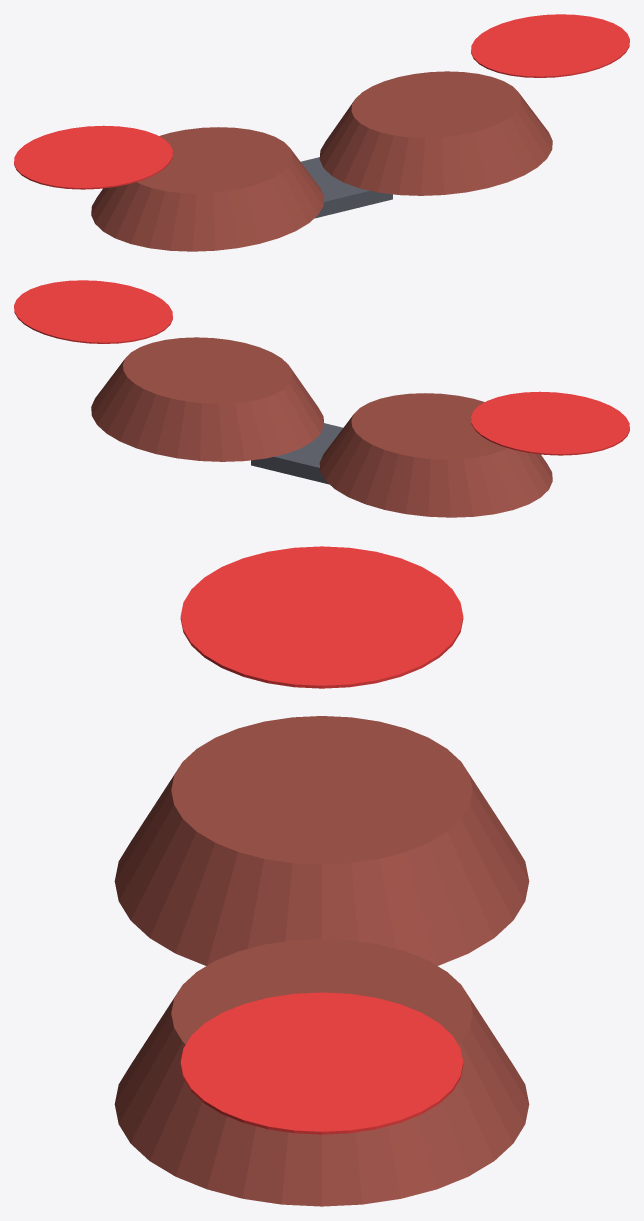
File: SU_PowerPlant.fbx
The picture shows the model from 3 angles, top to bottom: view 1: azimuth 30°, elevation 25°; view 2: azimuth 150°, elevation 25°; view 3: azimuth 270°, elevation 25°; orthographic projection. The views are drawn at different scales.
Visible parts, largest first — view 1: Cone.001, Cone, Cylinder.001, Cylinder, Cube; view 2: Cone.001, Cone, Cylinder.001, Cylinder, Cube; view 3: Cone, Cone.001, Cylinder, Cylinder.001.
Boxes of the visible parts, x1,y1,x2,y2 form: Cone.001: (319, 71, 552, 195); Cone: (91, 127, 324, 251); Cylinder.001: (471, 14, 629, 77); Cylinder: (14, 125, 172, 189); Cube: (301, 157, 392, 218); Cone.001: (91, 337, 324, 461); Cone: (319, 393, 552, 517); Cylinder.001: (14, 280, 172, 343); Cylinder: (471, 391, 629, 455); Cube: (251, 423, 342, 484); Cone: (114, 716, 529, 965); Cone.001: (114, 939, 529, 1206); Cylinder: (180, 546, 463, 688); Cylinder.001: (180, 992, 463, 1134).
Size of the model in its own units: 2646 by 390 by 792.
